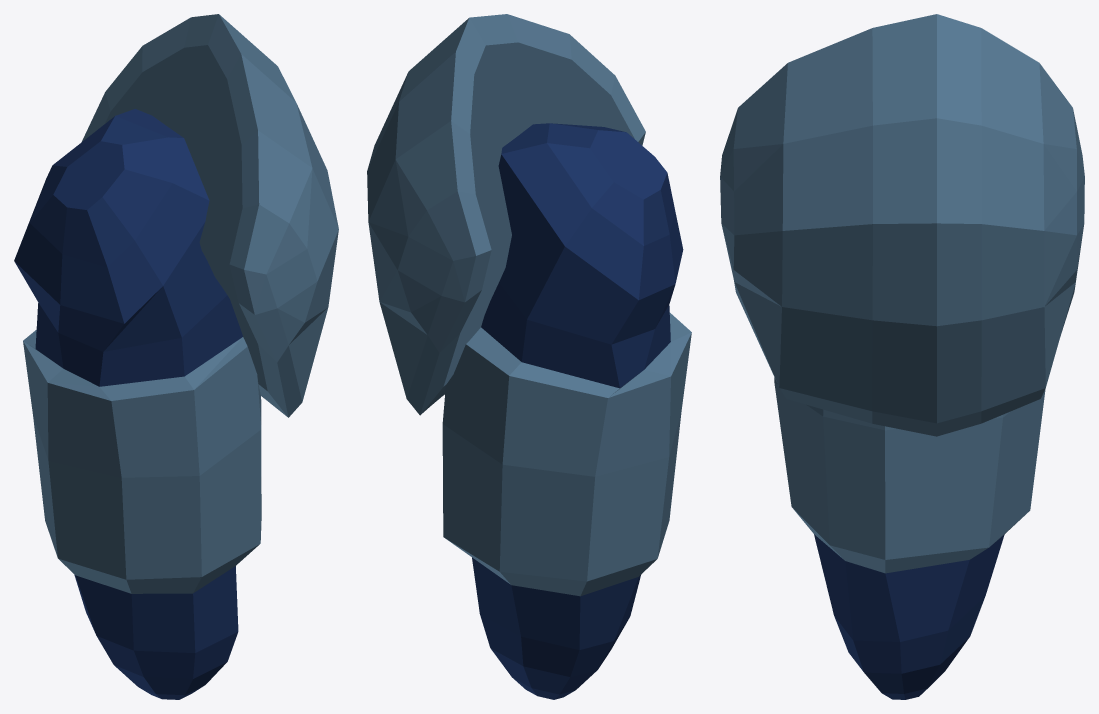
Rendered from right_upper_arm.fbx.
3 renders of one model, left to right at view 1: azimuth 30°, elevation 25°; view 2: azimuth 150°, elevation 25°; view 3: azimuth 270°, elevation 25°, orthographic. The views are drawn at different scales.
Visible parts, largest first — view 1: right_arm_upperarm; view 2: right_arm_upperarm; view 3: right_arm_upperarm.
Part boxes in pixels (x1,y1,x2,y2): right_arm_upperarm: [14, 14, 338, 699]; right_arm_upperarm: [367, 14, 691, 699]; right_arm_upperarm: [720, 14, 1084, 699].
Bounding box in the file's own units: 0.1822 × 0.4102 × 0.1906.
